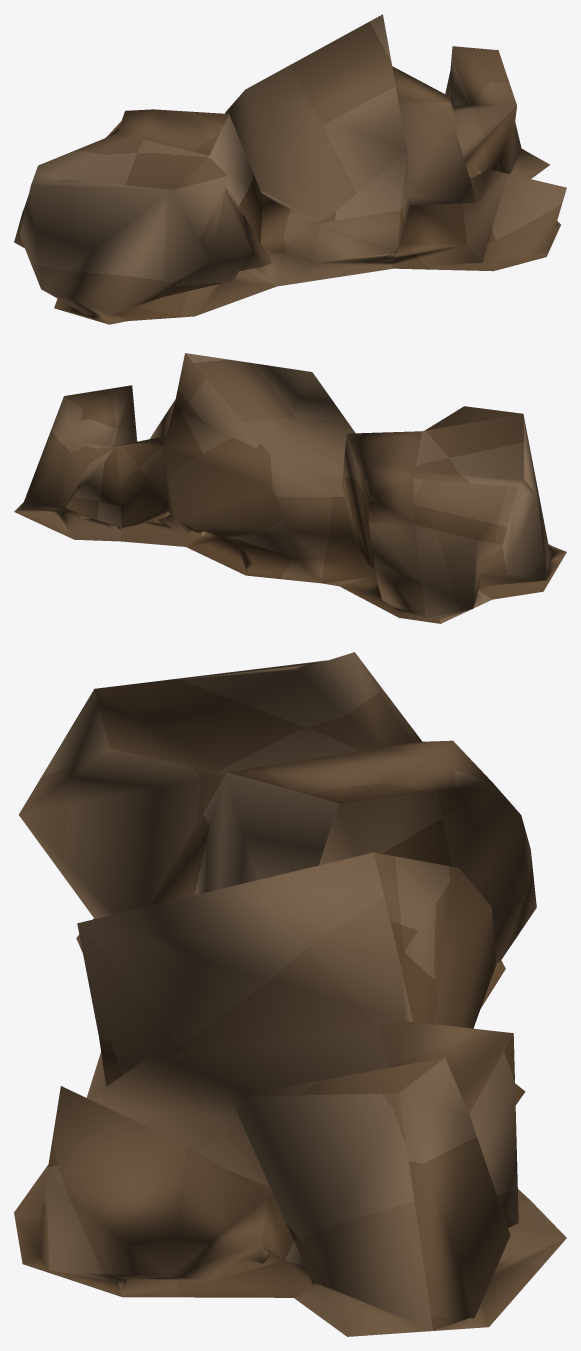
Rendered from pebble.glb.
3 views of the same model, one above another, from view 1: azimuth 30°, elevation 25°; view 2: azimuth 150°, elevation 25°; view 3: azimuth 270°, elevation 25° (orthographic). The views are drawn at different scales.
Visible parts, largest first — view 1: boulder_02; view 2: boulder_02; view 3: boulder_02.
Boxes of the visible parts, x1,y1,x2,y2 form: boulder_02: (14,14,566,324); boulder_02: (14,353,566,623); boulder_02: (14,652,566,1336).
Bounding box in the file's own units: 2.44 × 0.8562 × 1.21.
1 material, 1 textured.
